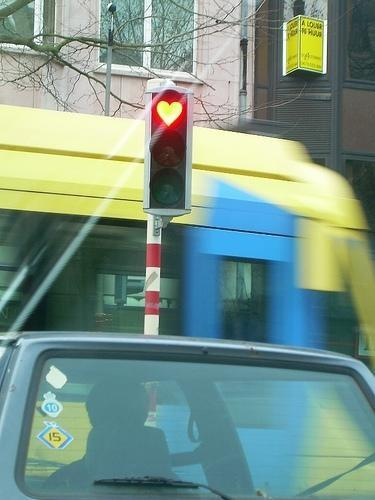bus: (1, 106, 375, 376)
car: (0, 330, 373, 495)
